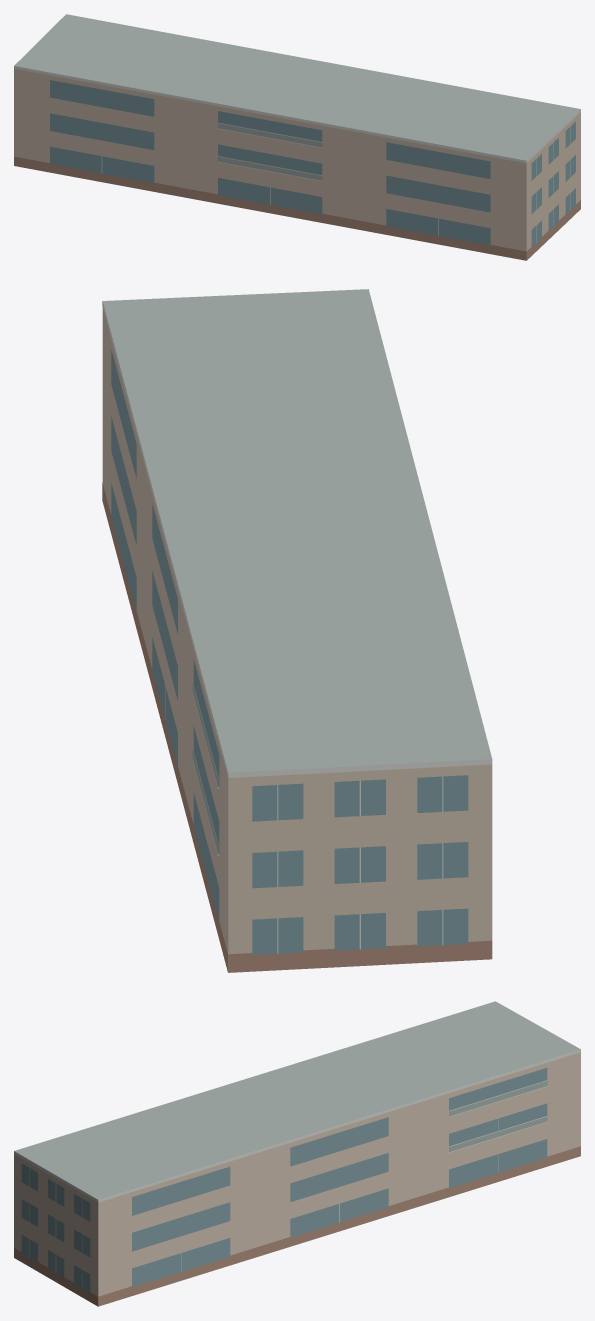
File: survey-upis-32754235.glb
The picture shows the model from 3 angles, top to bottom: view 1: azimuth 30°, elevation 25°; view 2: azimuth 150°, elevation 25°; view 3: azimuth 270°, elevation 25°; orthographic projection. The views are drawn at different scales.
Parts seen in each view (by area): view 1: survey-upis-32754235.tmp; view 2: survey-upis-32754235.tmp; view 3: survey-upis-32754235.tmp.
Boxes of the visible parts, x1,y1,x2,y2 form: survey-upis-32754235.tmp: (14, 14, 580, 260); survey-upis-32754235.tmp: (102, 289, 492, 972); survey-upis-32754235.tmp: (14, 1001, 580, 1306).
Size of the model in its own units: 36.46 by 9.15 by 44.
